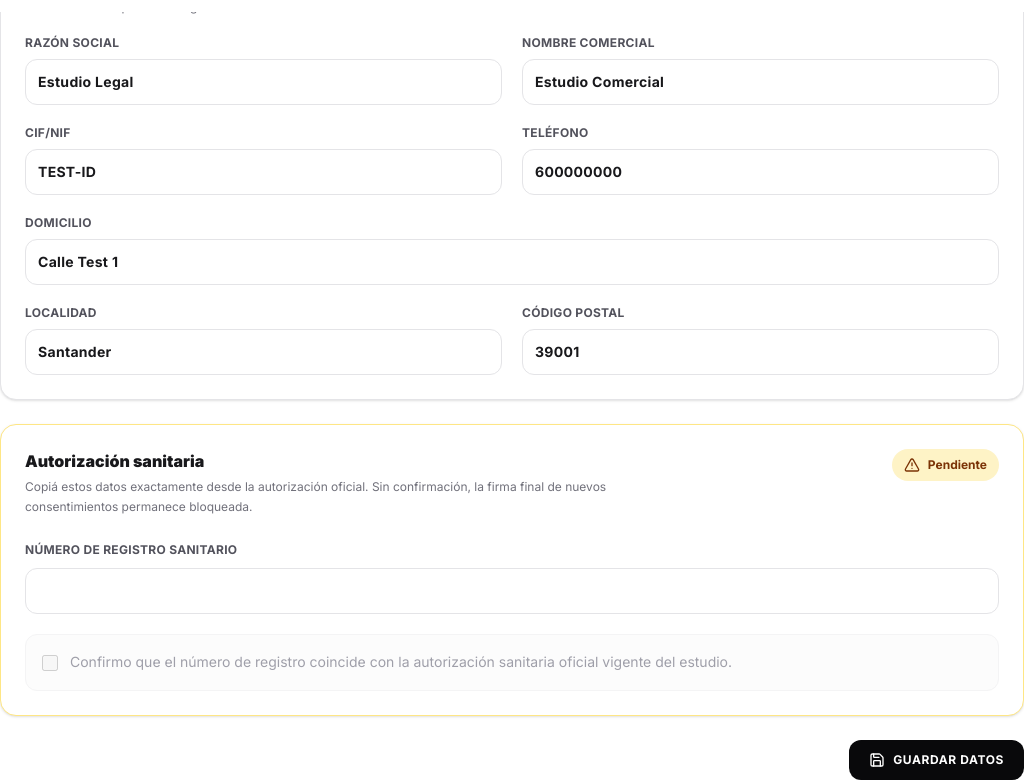
Scenario: StudioSettingsManager › keeps attestation unavailable when the registration number is missing
(page scrolled)
Expected: the field showing "Estudio Legal" is shown, [25,59,502,105]
Expected: the checkbox is disabled, [42,655,58,671]
Click the button "Guardar datos" at (937, 760), box [849,740,1024,779]
(page scrolled)
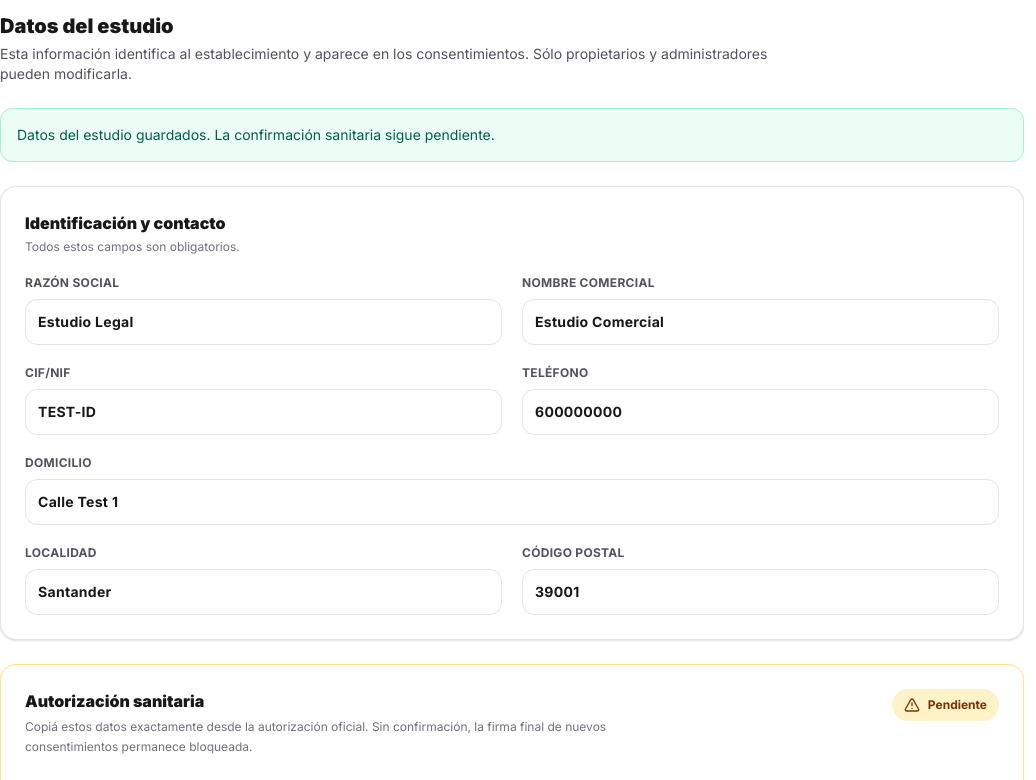
Result: the text "Datos del estudio guardados. La confirmación sanitaria sigue pendiente." is shown at [0,108,1024,162]
